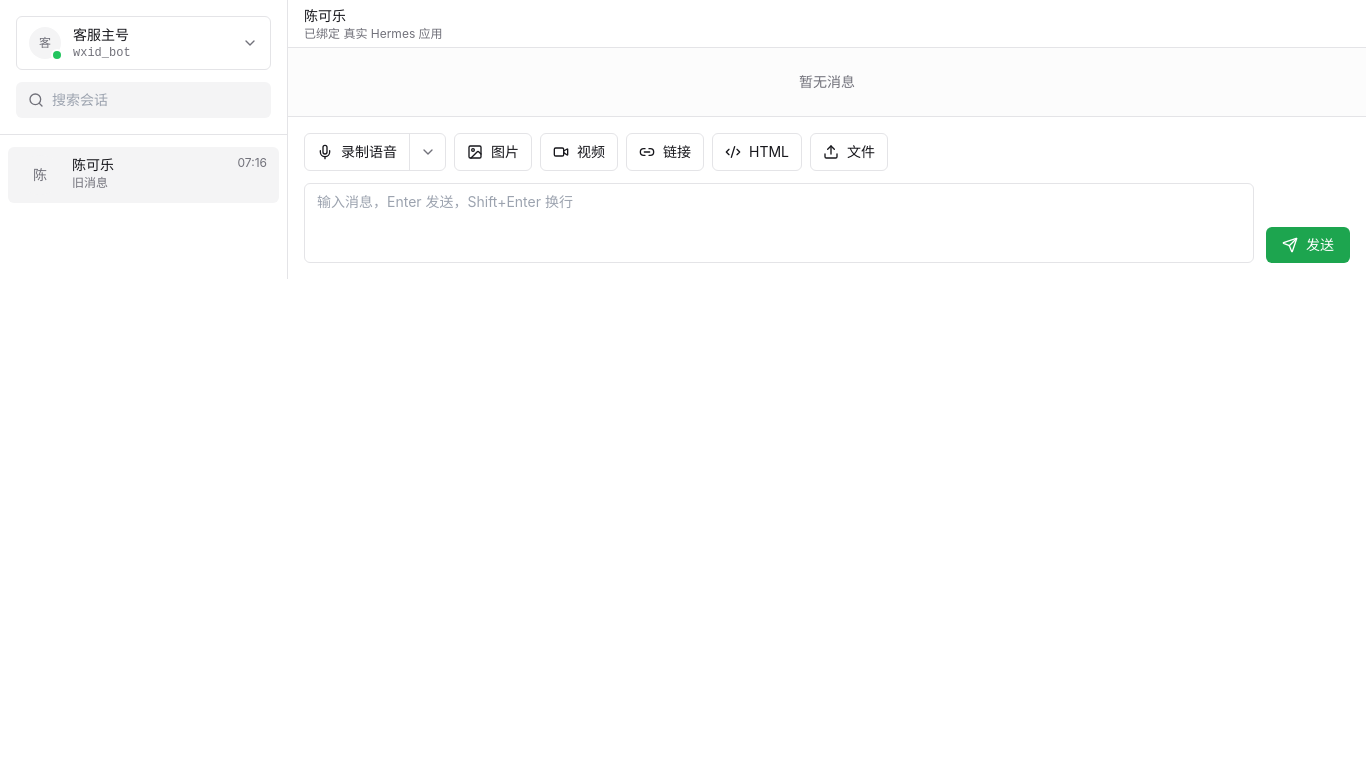
Test case: WorkbenchPage detail surfaces › 会话管理抽屉解绑已绑定应用前需要二次确认
Right-click the button with aria-label "打开会话 陈可乐": point(40, 175) [8, 147, 279, 203]
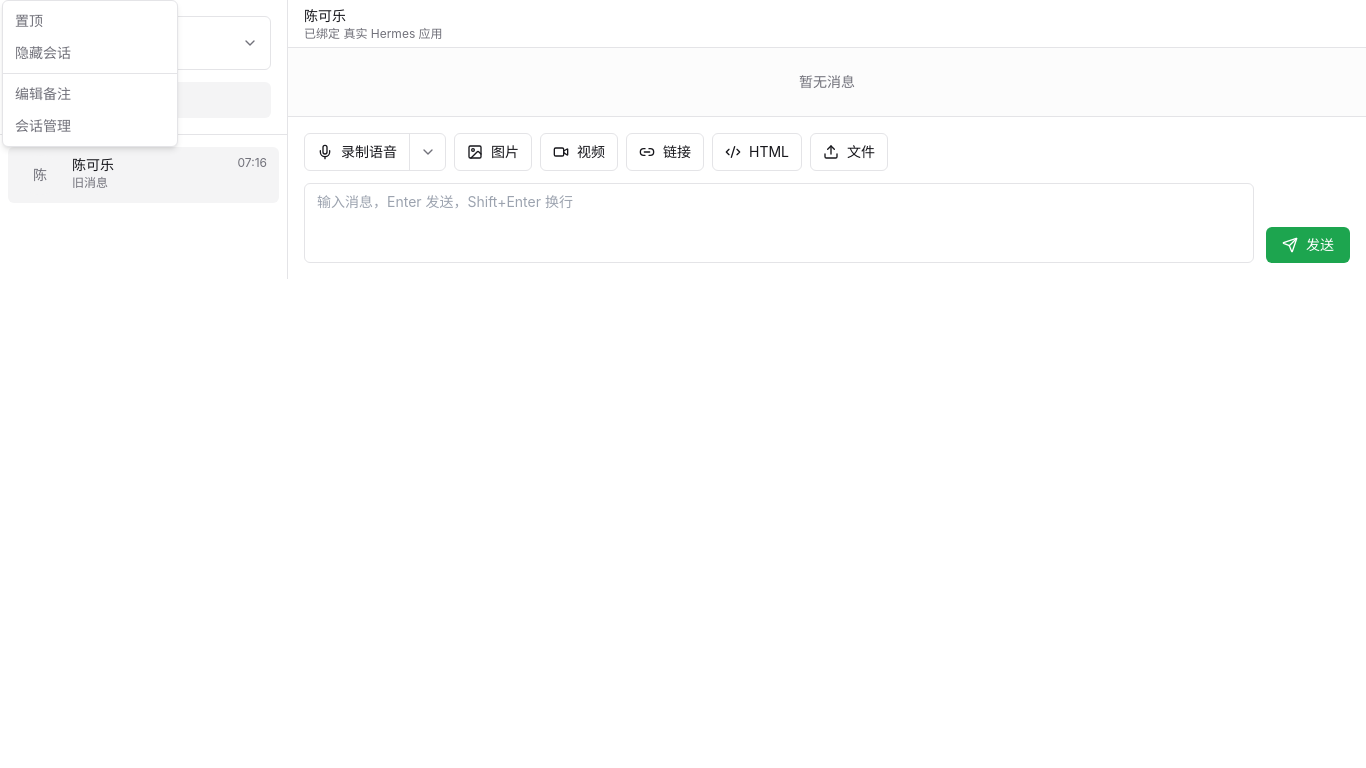
Click the menu item "会话管理": point(43, 126) [15, 117, 71, 134]
(page scrolled)
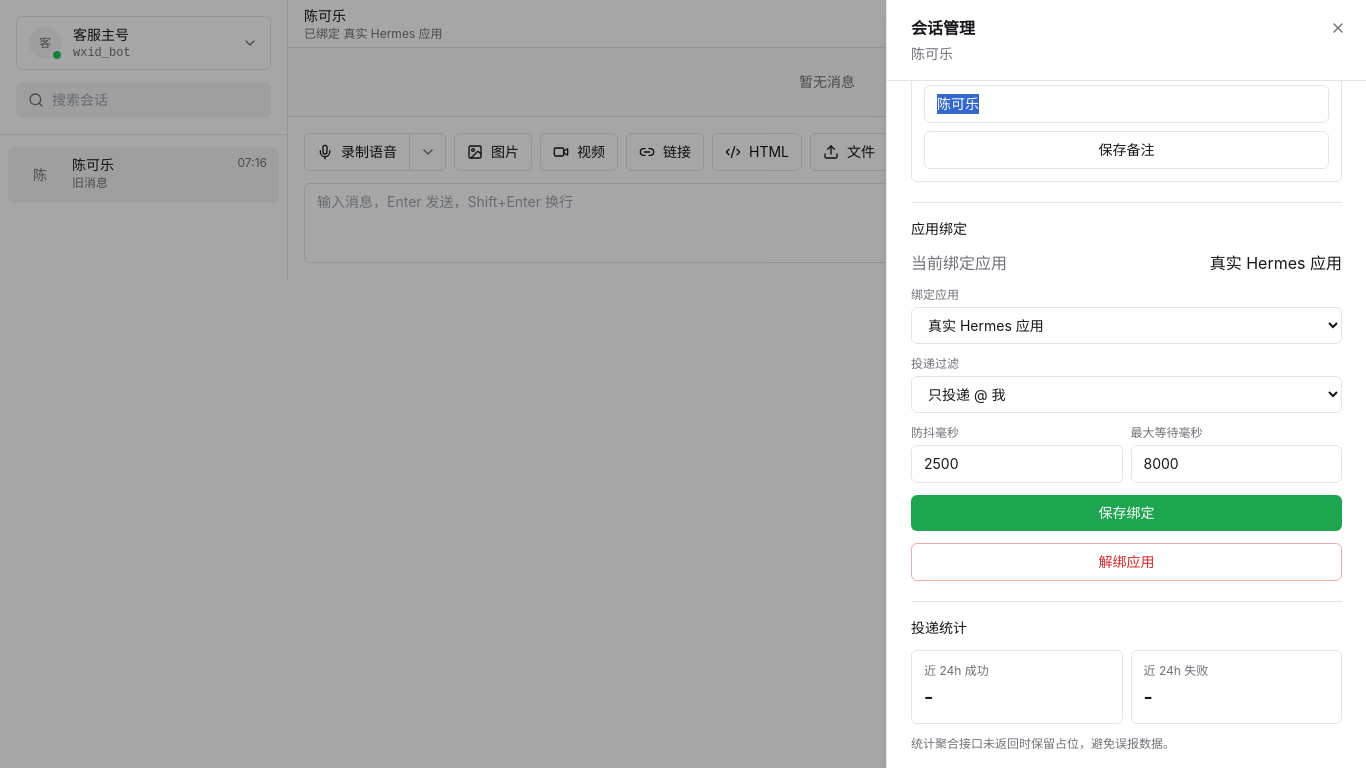
Expected: the text "真实 Hermes 应用" is shown, [1210, 251, 1342, 275]
Click the button "解绑应用": point(1126, 562) [911, 543, 1342, 581]
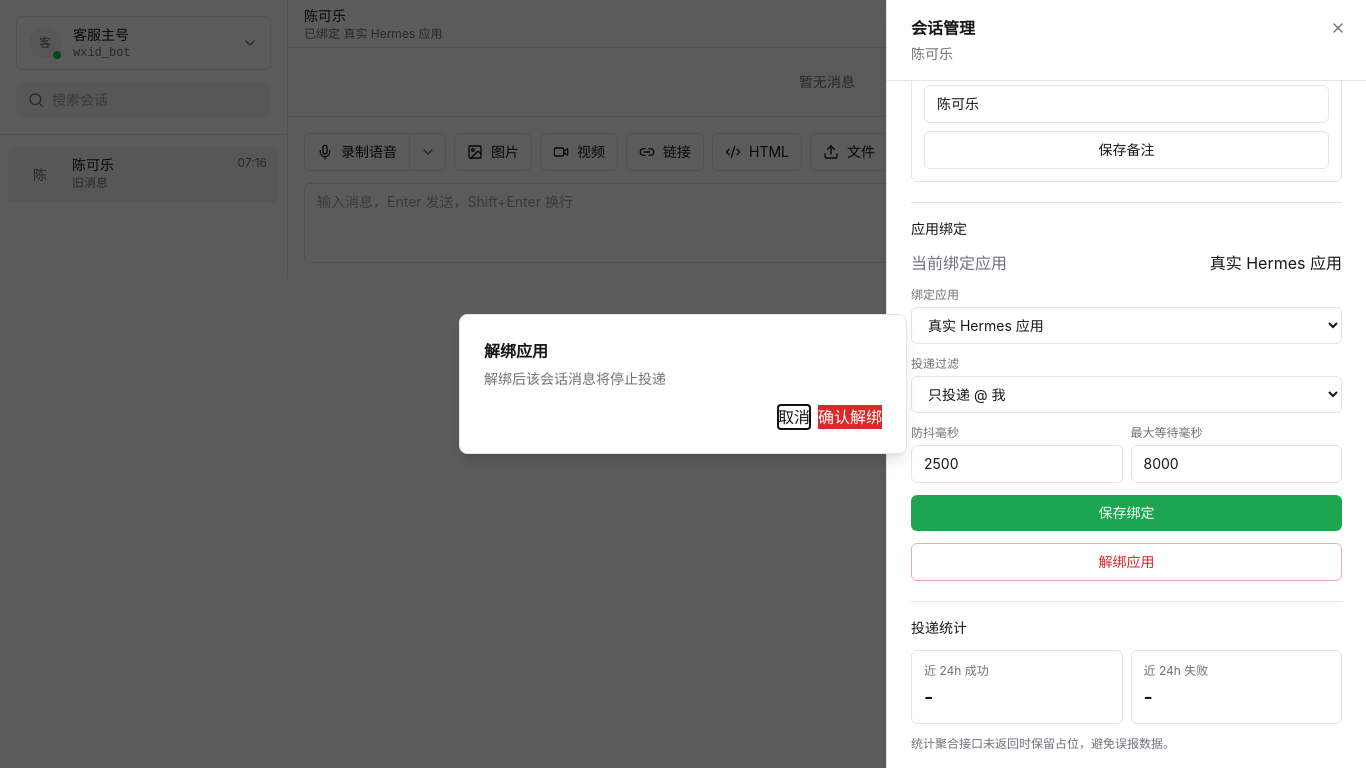
Expected: the text "解绑后该会话消息将停止投递" is shown, [484, 370, 666, 387]
Click the button "确认解绑": point(850, 417) [818, 405, 882, 429]
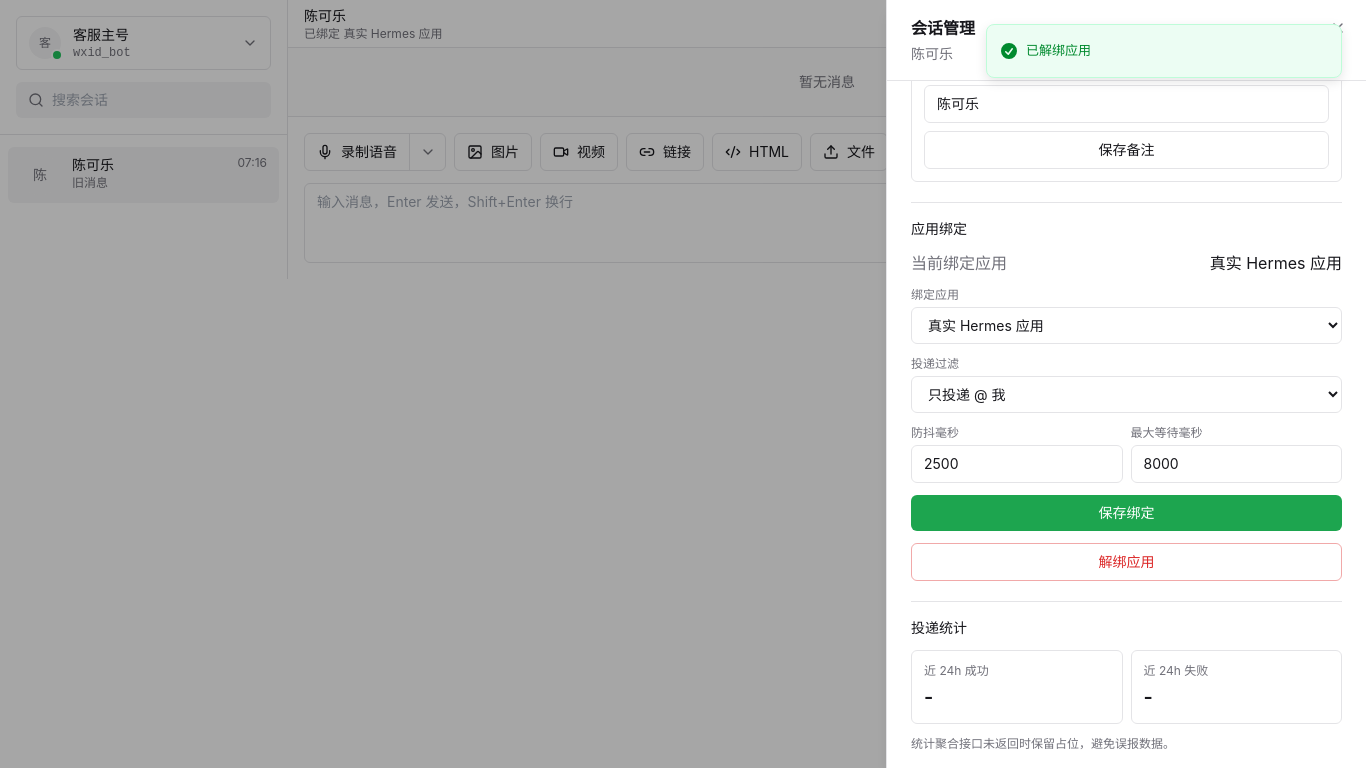
Expected: the text "已解绑应用" is shown, [1026, 41, 1091, 60]
